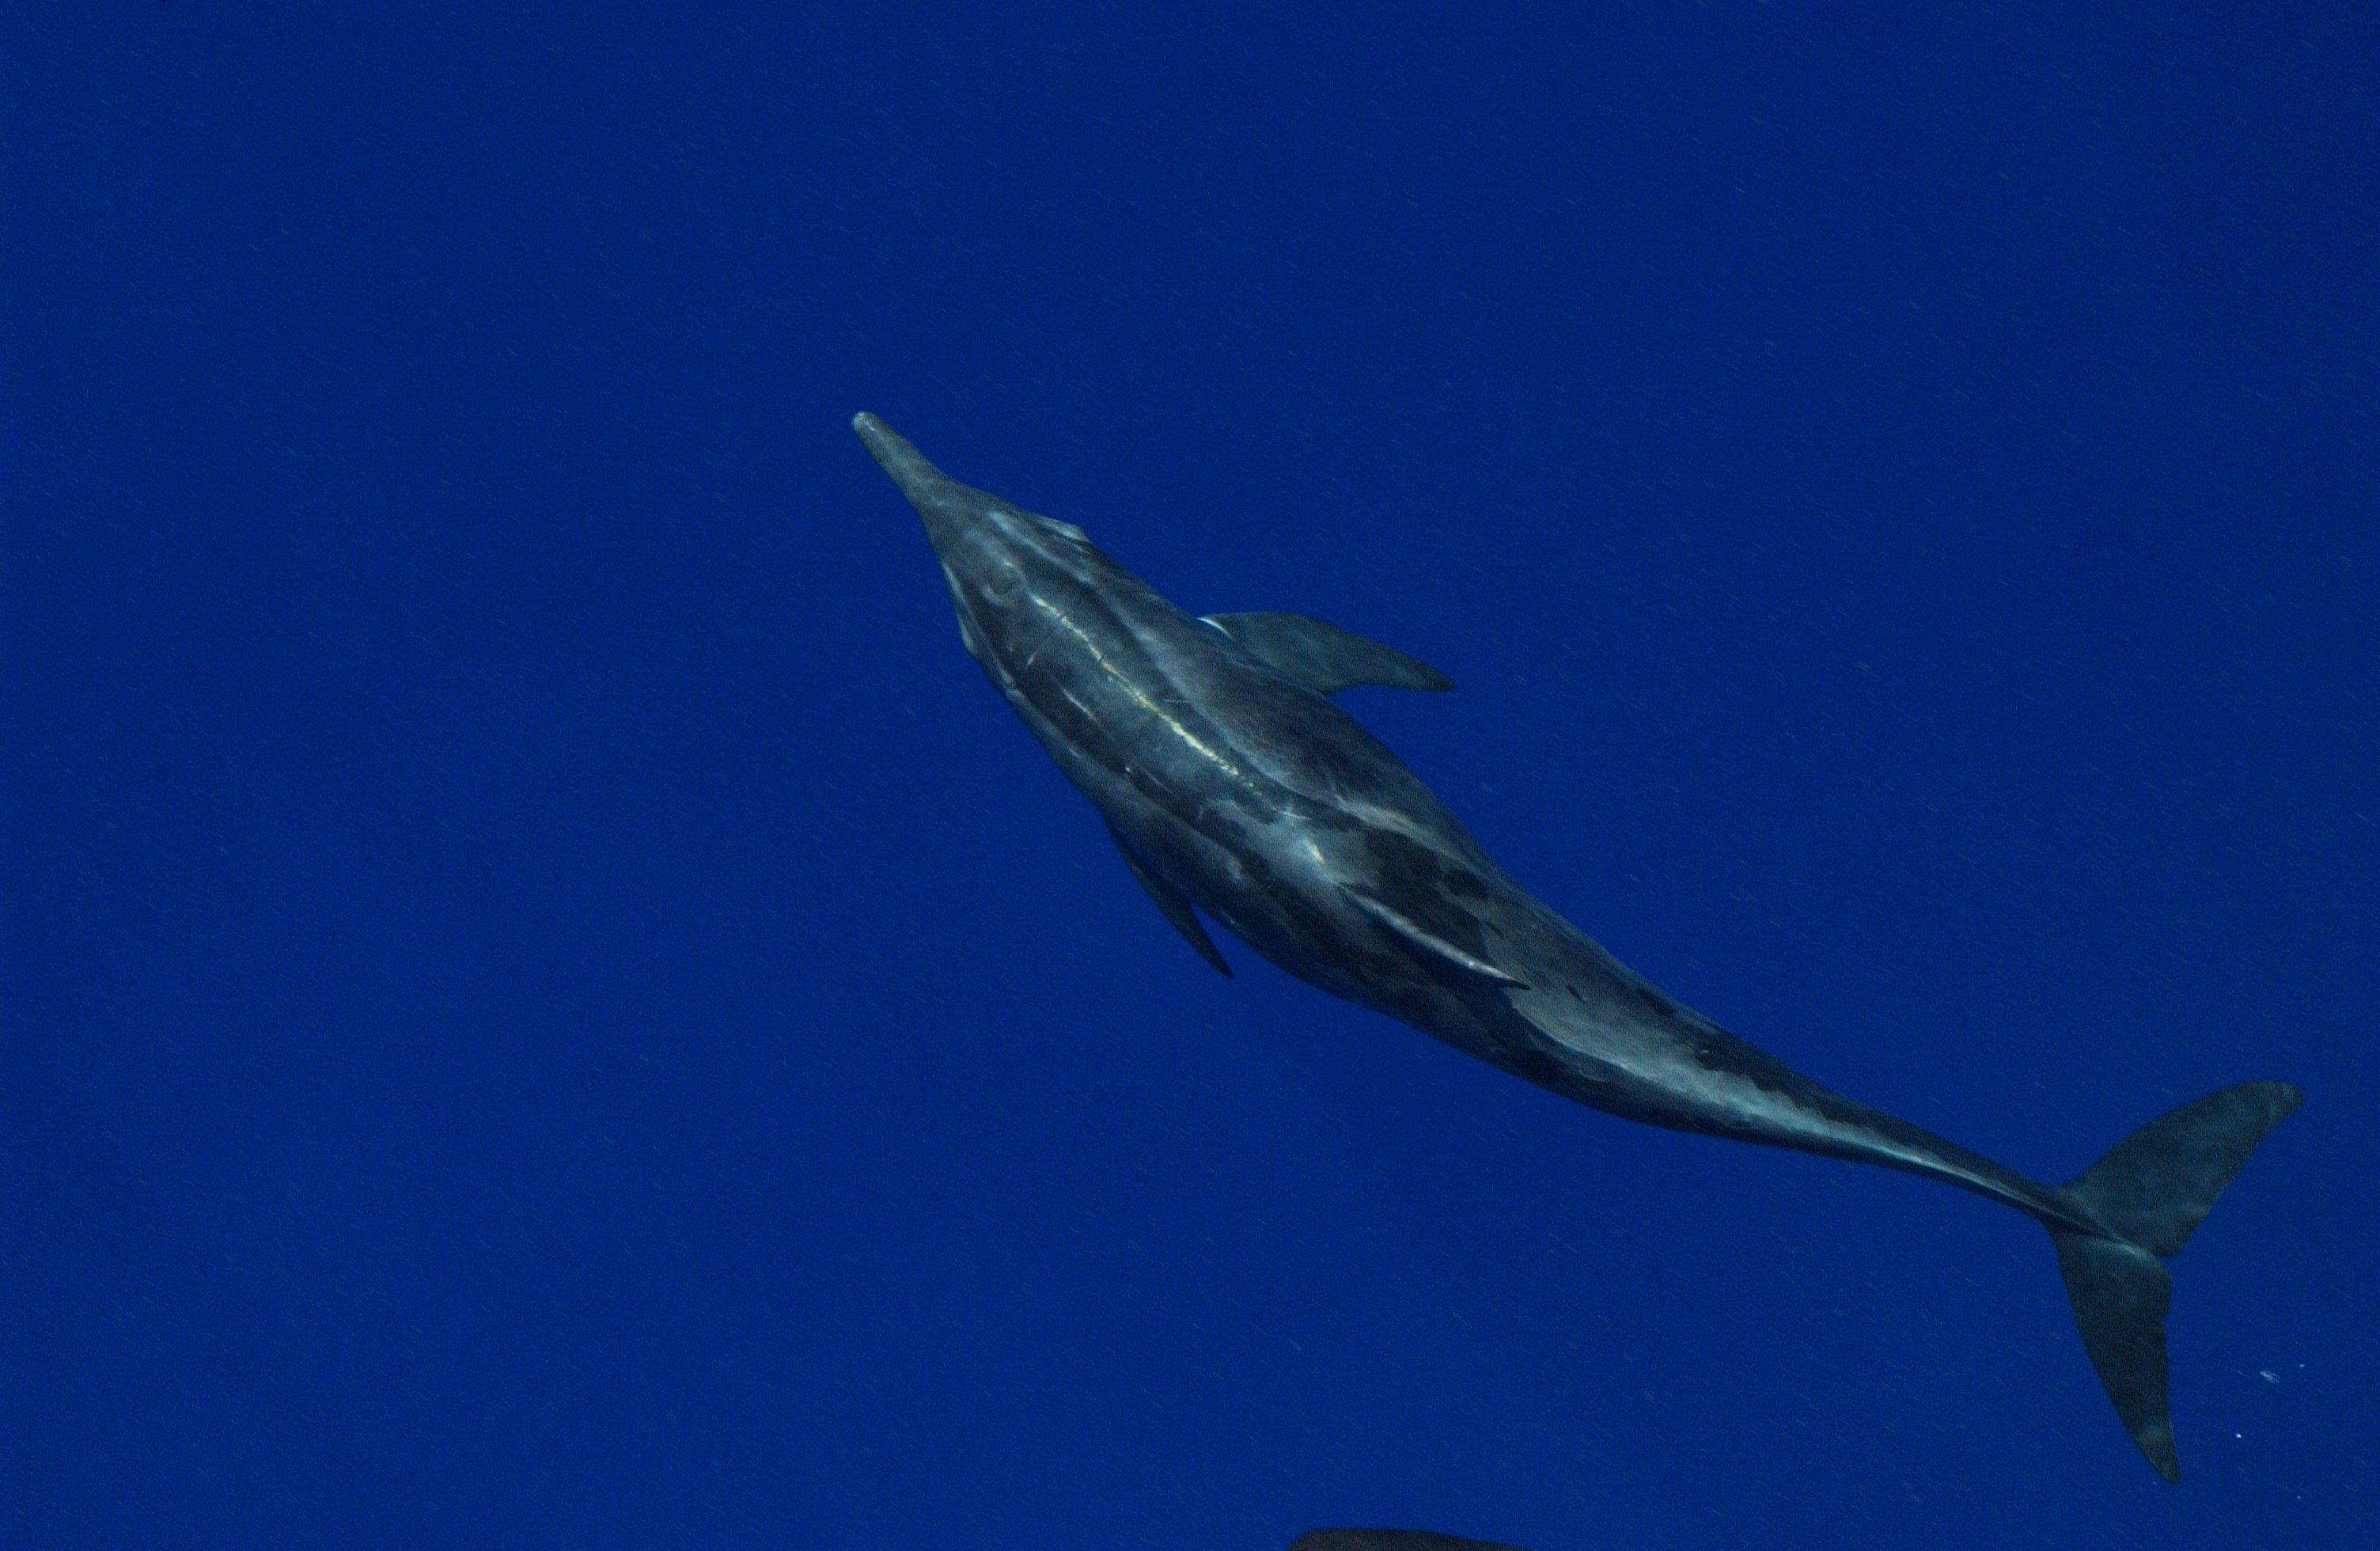dolphin: (831, 396, 2307, 1502)
